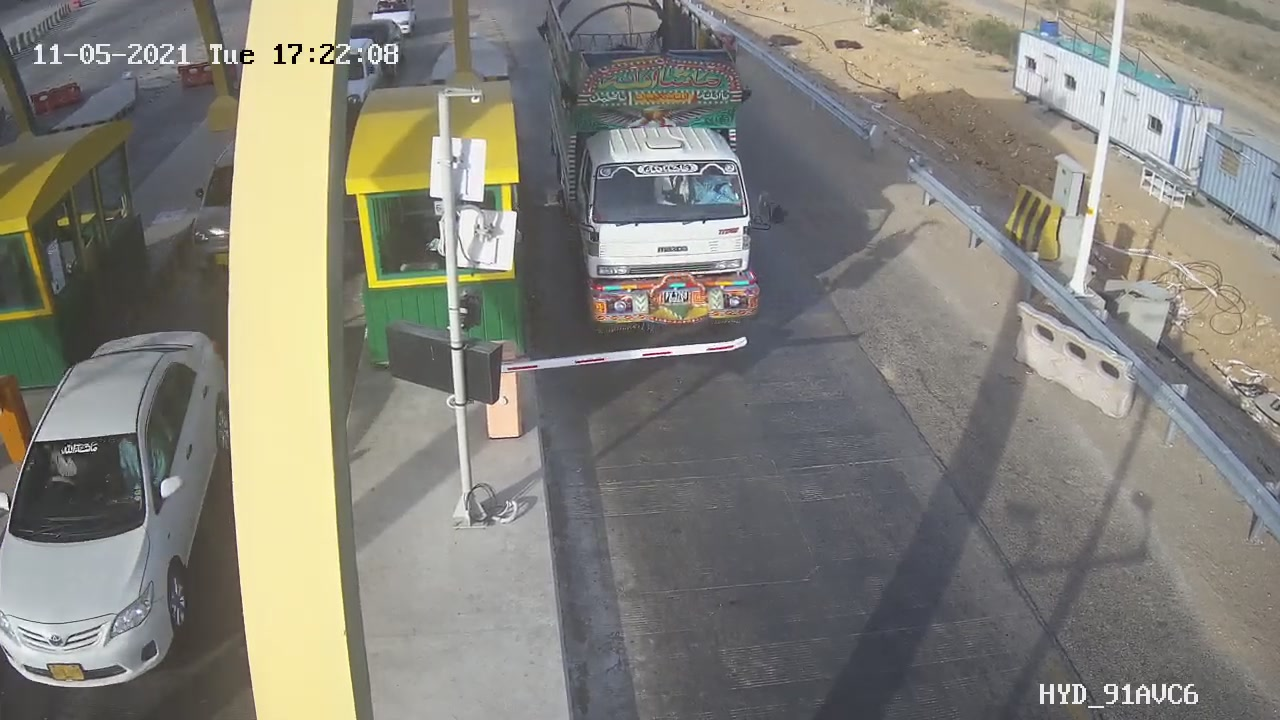F5: (524, 1, 803, 348)
